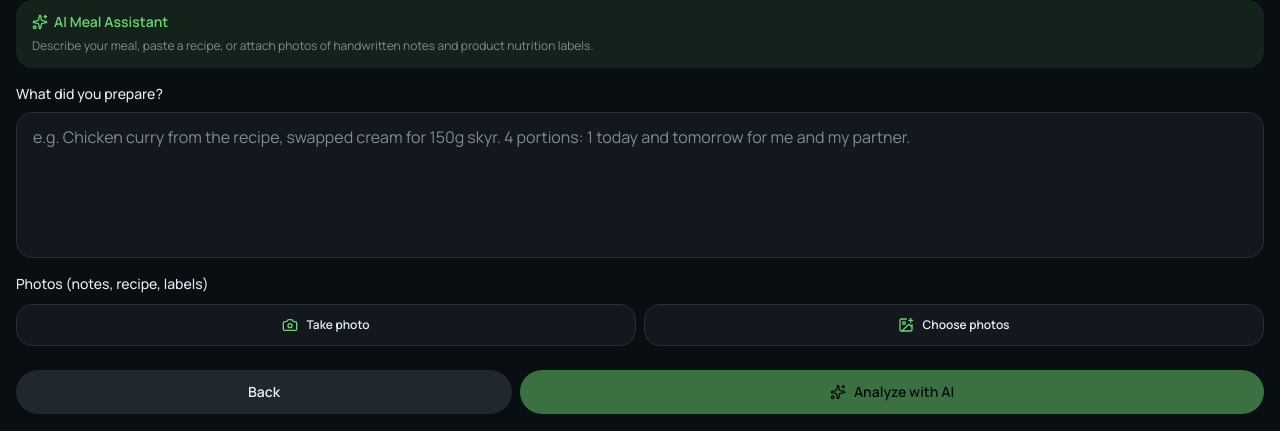
Test: AiMealAssistant › renders English UI and forwards language=en to AI and OFF search inside LanguageProvider
Replace the text in the text box labelled "What did you prepare?" with "60g rolled oats" at (640, 184), box [16,112,1264,258]
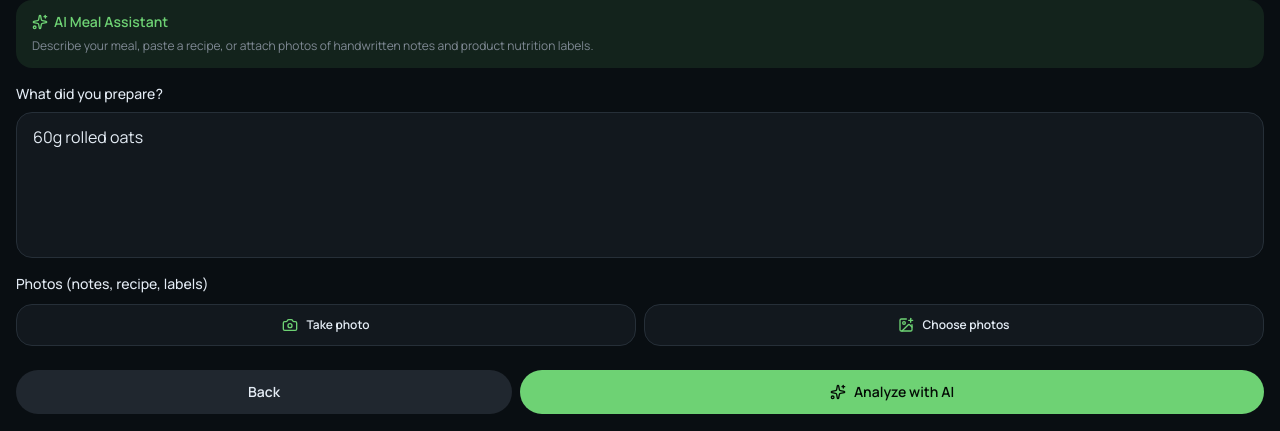
Click the button "Analyze with AI" at (892, 392), box [520,370,1264,414]
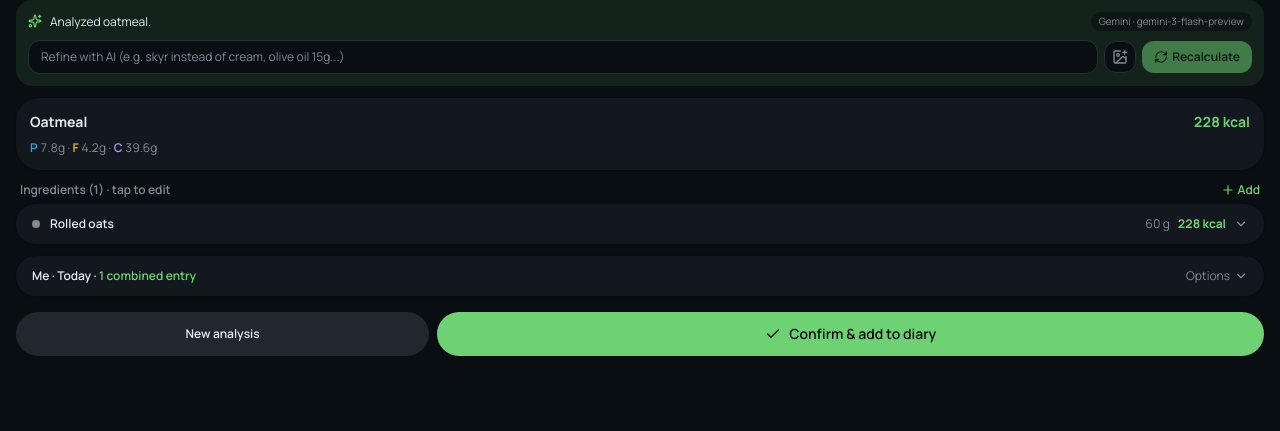
expect the button "Rolled oats 60 g 228 kcal" is shown: met, box [16,204,1264,244]
